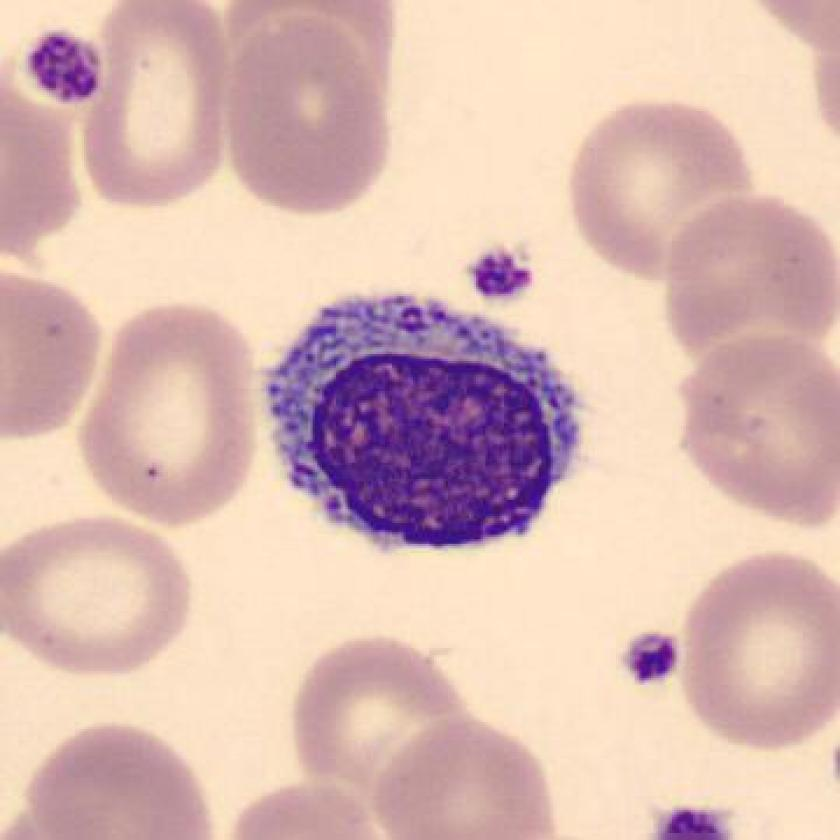lymphocyte: (248, 279, 603, 563)
